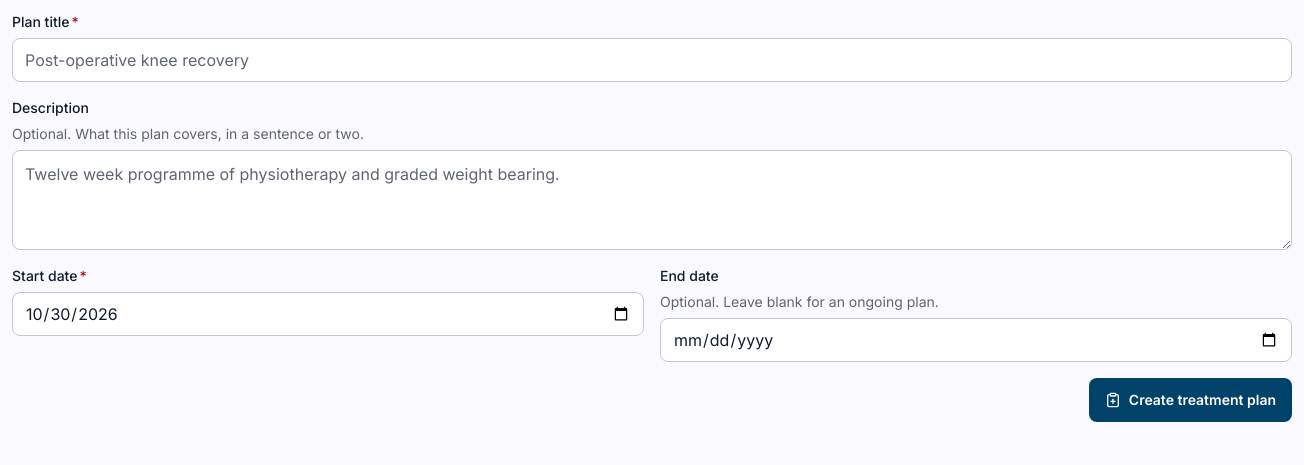
Test: creating a treatment plan (module 3.1) › refuses an end date before the start date, as the database would
Type "Knee rehabilitation" into the field labelled "Plan title*".
click(652, 60); type("Knee rehabilitation")  # box [12, 38, 1292, 82]
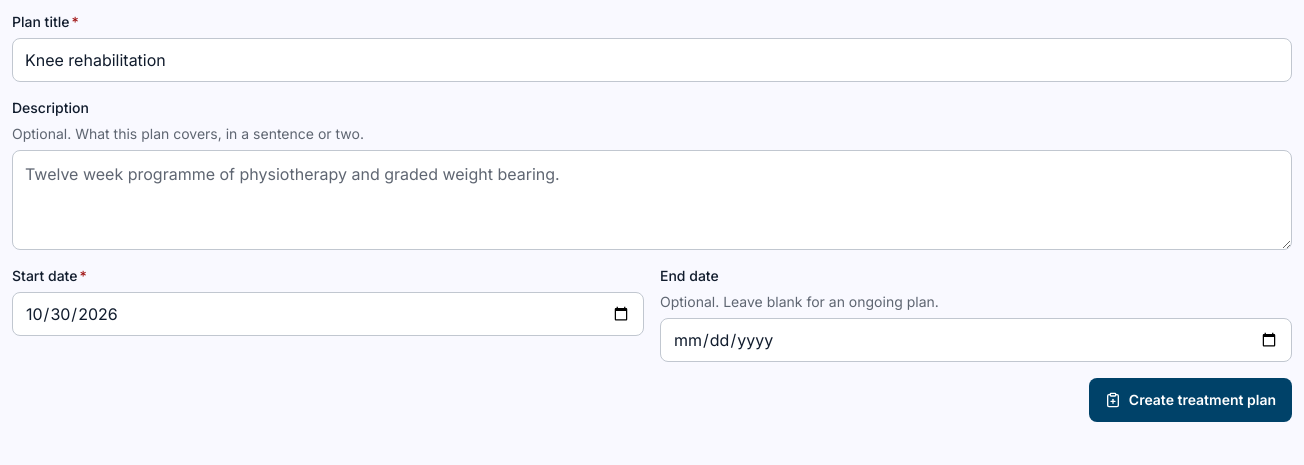
Type "2026-03-01" into the date field labelled "Start date*".
click(328, 314); type("2026-03-01")  # box [12, 292, 644, 336]
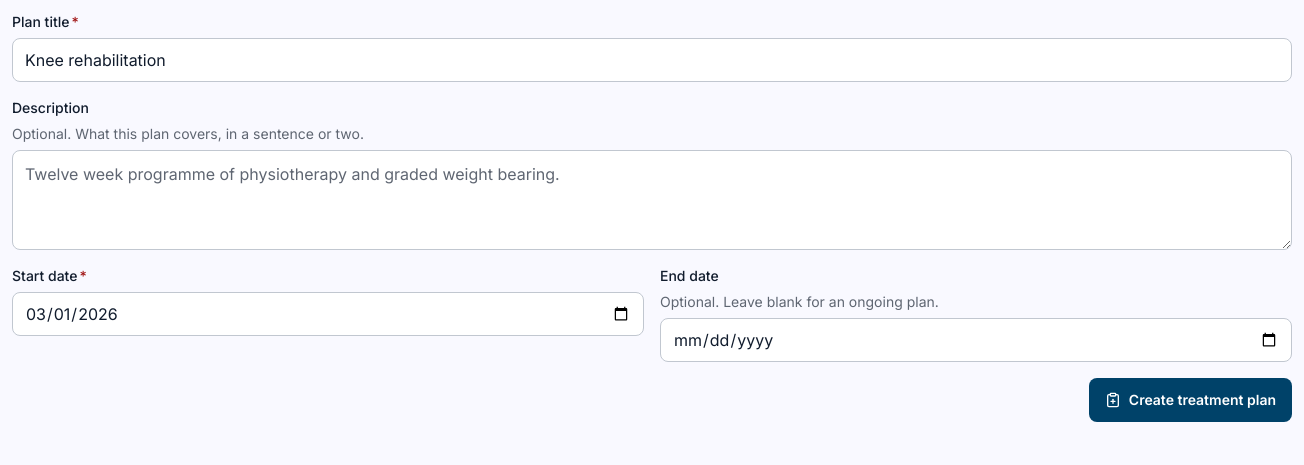
Type "2026-02-01" into the date field labelled "End date".
click(976, 340); type("2026-02-01")  # box [660, 318, 1292, 362]
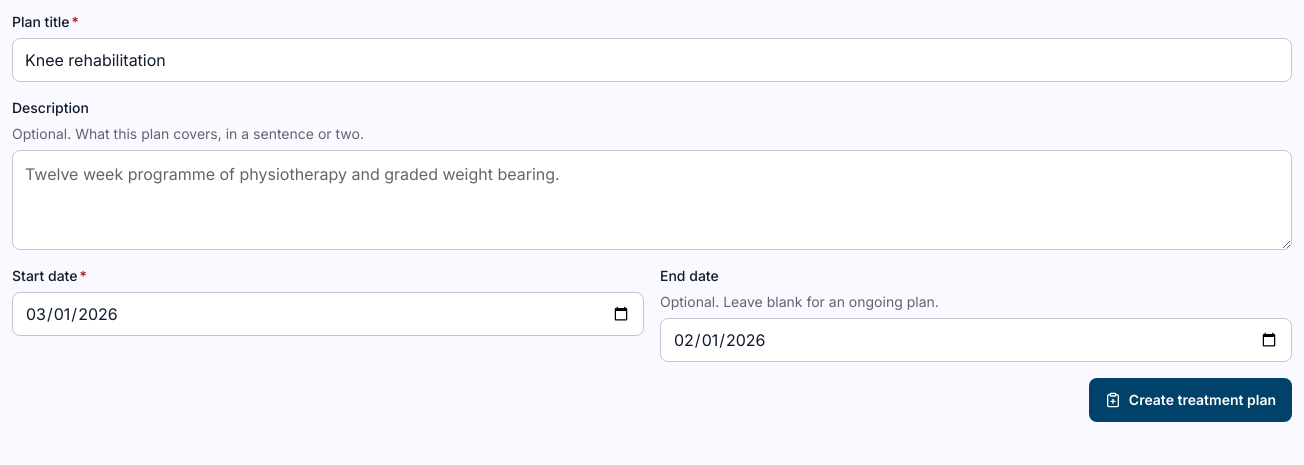
Click the button "Create treatment plan".
click(1190, 400)  # box [1089, 378, 1292, 422]
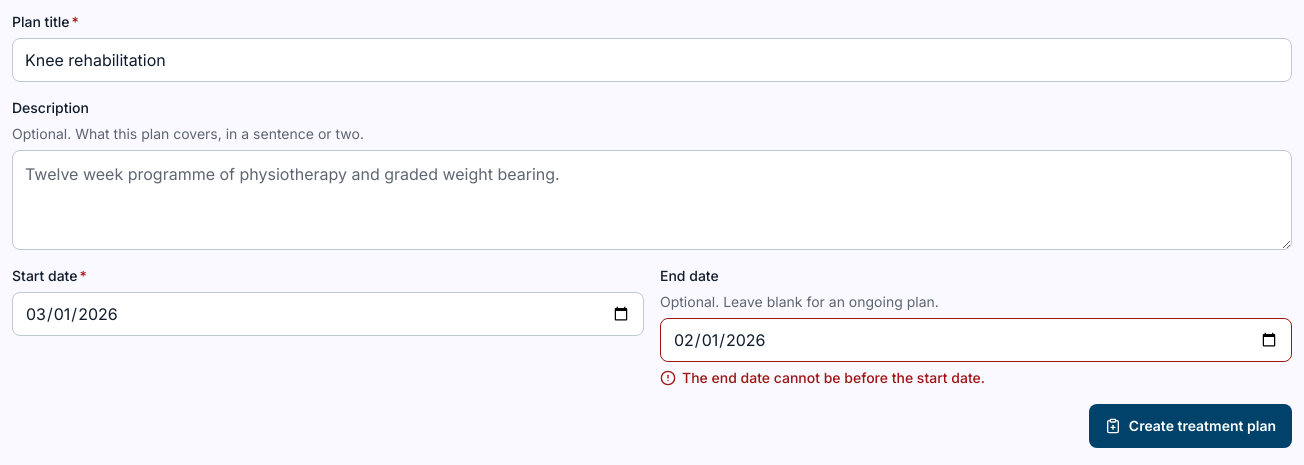
Now the text "The end date cannot be before the start date." is shown, box [660, 369, 985, 386]
